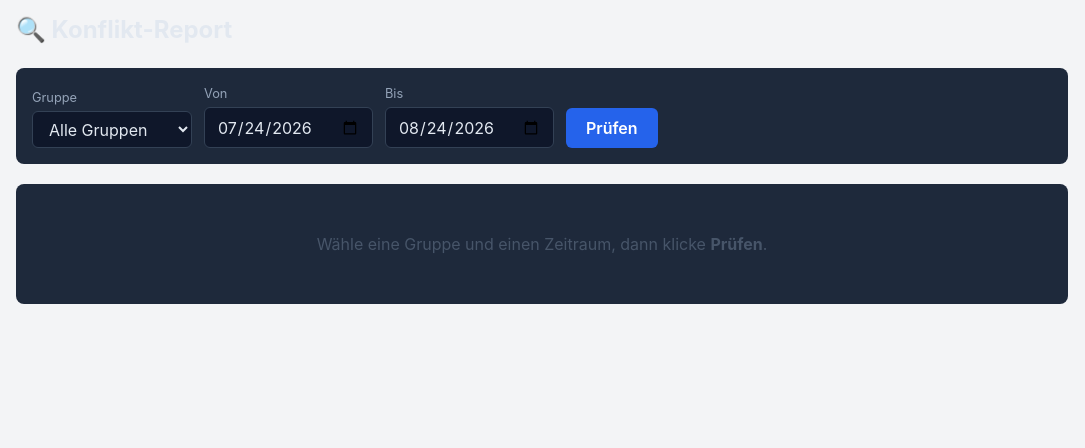
Test: ConflictReport › shows "no conflicts" message when result is empty
What coordinates should you click on to do the following:
click the button with test id "pruefen-btn"
I would click on:
 (612, 128)
Its box is [566,108,658,148].
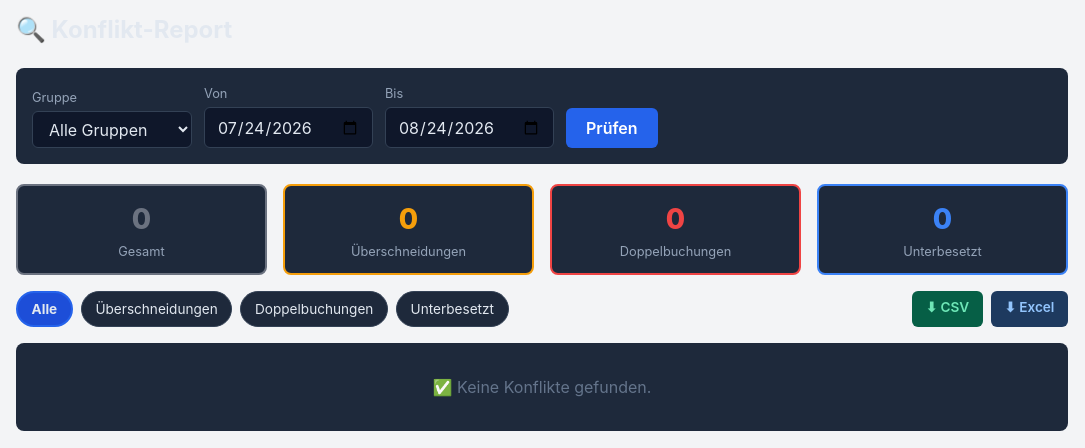
Expected: the text "✅ Keine Konflikte gefunden." is shown, [16,343,1068,431]
